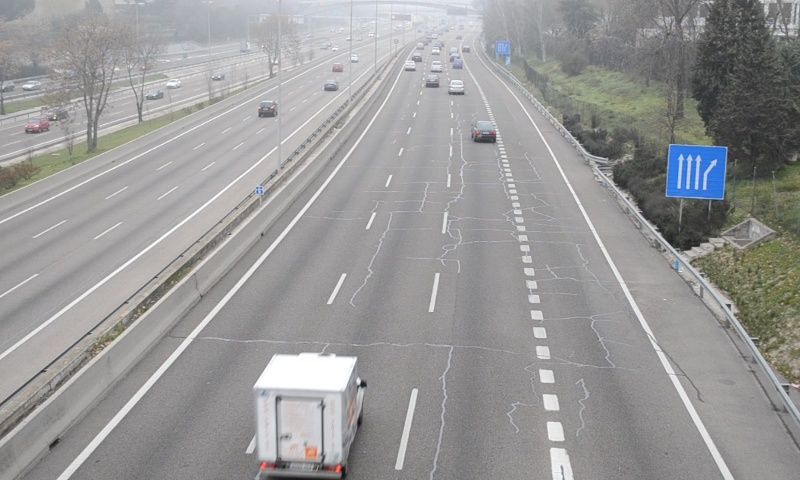car: (470, 119, 496, 143)
small-truck: (254, 354, 366, 480)
